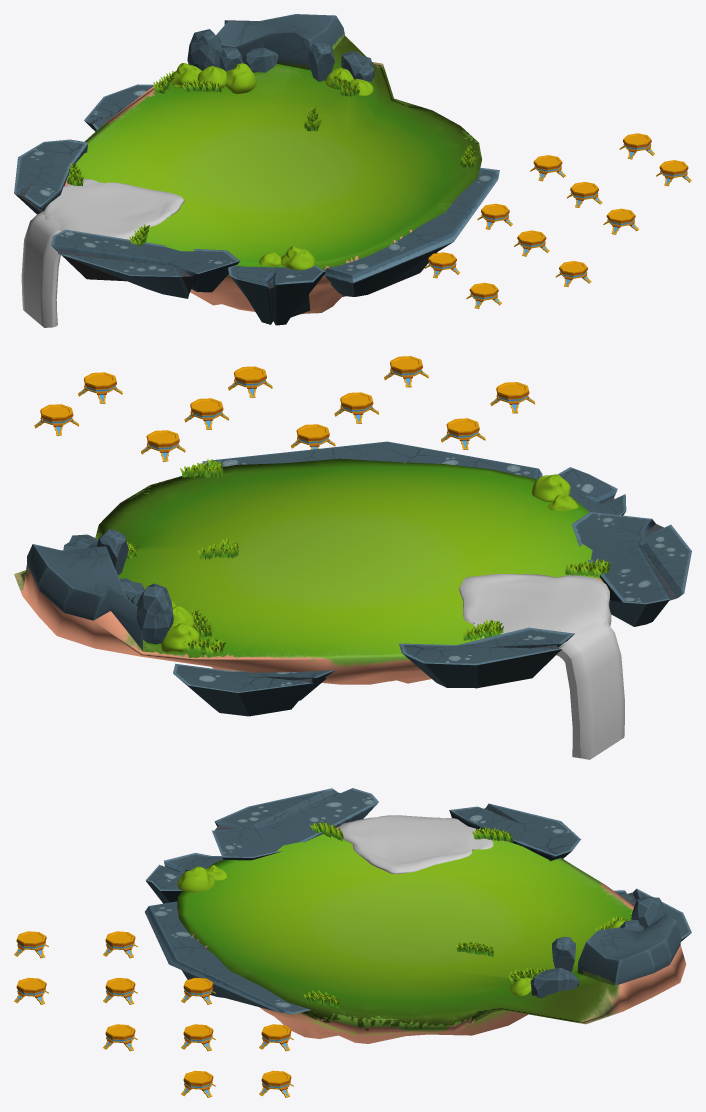
File: Home_Scene_ENV 1.fbx
The picture shows the model from 3 angles, top to bottom: view 1: azimuth 30°, elevation 25°; view 2: azimuth 150°, elevation 25°; view 3: azimuth 270°, elevation 25°; orthographic projection. The views are drawn at different scales.
Parts seen in each view (by area): view 1: pPlane32, Islands, River, polySurface114, rocks, WaterFall1, ParkingSpot28, ParkingSpot27, ParkingSpot31, ParkingSpot33, ParkingSpot35, ParkingSpot36 (+4 smaller); view 2: pPlane32, Islands, River, WaterFall1, polySurface114, rocks, ParkingSpot32, ParkingSpot27, ParkingSpot36, ParkingSpot37, ParkingSpot19, ParkingSpot38 (+4 smaller); view 3: pPlane32, Islands, River, rocks, polySurface114, ParkingSpot38, ParkingSpot19, ParkingSpot37, ParkingSpot28, ParkingSpot32, ParkingSpot33, ParkingSpot35 (+3 smaller).
Part boxes in pixels (left/top/right/bottom): pPlane32: left=64, top=14, right=481, bottom=314; Islands: left=14, top=84, right=499, bottom=325; River: left=43, top=179, right=184, bottom=239; polySurface114: left=67, top=63, right=373, bottom=270; rocks: left=187, top=29, right=374, bottom=81; WaterFall1: left=21, top=211, right=61, bottom=327; ParkingSpot28: left=603, top=208, right=638, bottom=234; ParkingSpot27: left=514, top=230, right=549, bottom=256; ParkingSpot31: left=656, top=160, right=691, bottom=186; ParkingSpot33: left=477, top=203, right=512, bottom=229; ParkingSpot35: left=619, top=133, right=654, bottom=159; ParkingSpot36: left=530, top=155, right=565, bottom=181; pPlane32: left=14, top=458, right=609, bottom=684; Islands: left=173, top=441, right=691, bottom=716; River: left=459, top=574, right=611, bottom=648; WaterFall1: left=556, top=621, right=624, bottom=759; polySurface114: left=126, top=474, right=610, bottom=656; rocks: left=63, top=529, right=173, bottom=644; ParkingSpot32: left=184, top=398, right=229, bottom=429; ParkingSpot27: left=334, top=392, right=378, bottom=423; ParkingSpot36: left=141, top=430, right=185, bottom=461; ParkingSpot37: left=384, top=356, right=428, bottom=387; ParkingSpot19: left=441, top=418, right=485, bottom=449; ParkingSpot38: left=490, top=382, right=535, bottom=413; pPlane32: left=177, top=821, right=686, bottom=1043; Islands: left=145, top=788, right=691, bottom=1014; River: left=338, top=815, right=493, bottom=873; rocks: left=530, top=896, right=667, bottom=997; polySurface114: left=177, top=822, right=631, bottom=996; ParkingSpot38: left=14, top=931, right=48, bottom=958; ParkingSpot19: left=103, top=931, right=137, bottom=958; ParkingSpot37: left=14, top=977, right=48, bottom=1004; ParkingSpot28: left=103, top=1024, right=137, bottom=1051; ParkingSpot32: left=181, top=1024, right=215, bottom=1051; ParkingSpot33: left=181, top=977, right=215, bottom=1004; ParkingSpot35: left=259, top=1070, right=293, bottom=1097.
Bounding box in the file's own units: 174 × 42.67 × 168.
